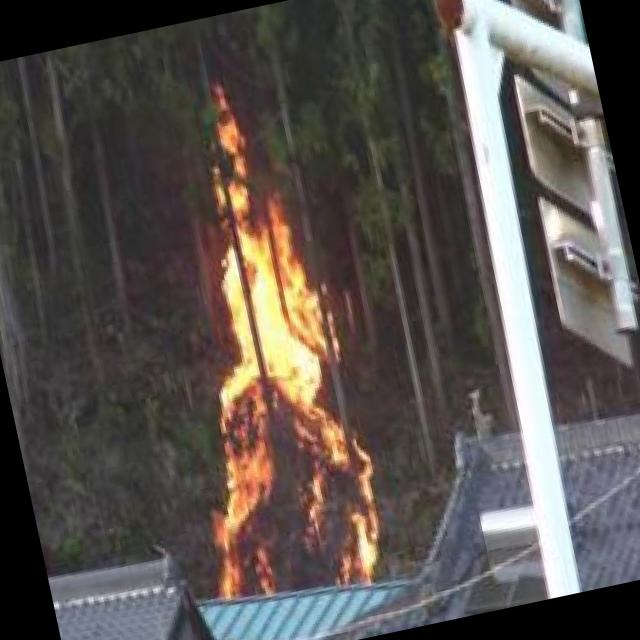Fire: (133, 94, 400, 615)
